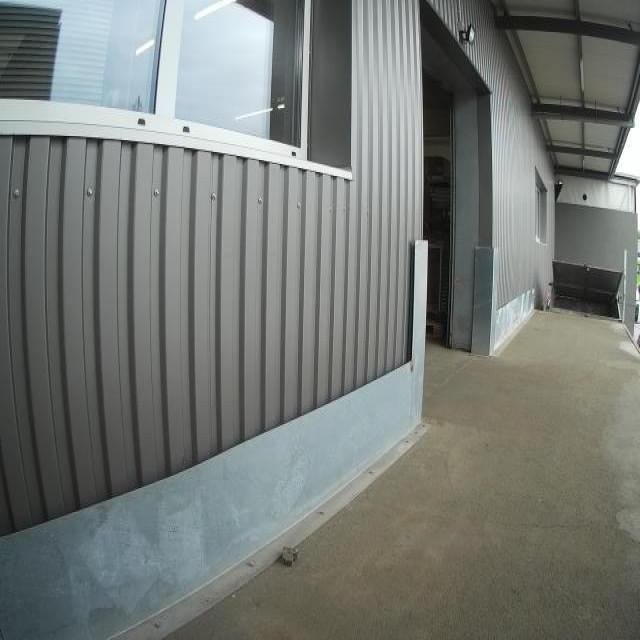pallet: (421, 319, 448, 344)
